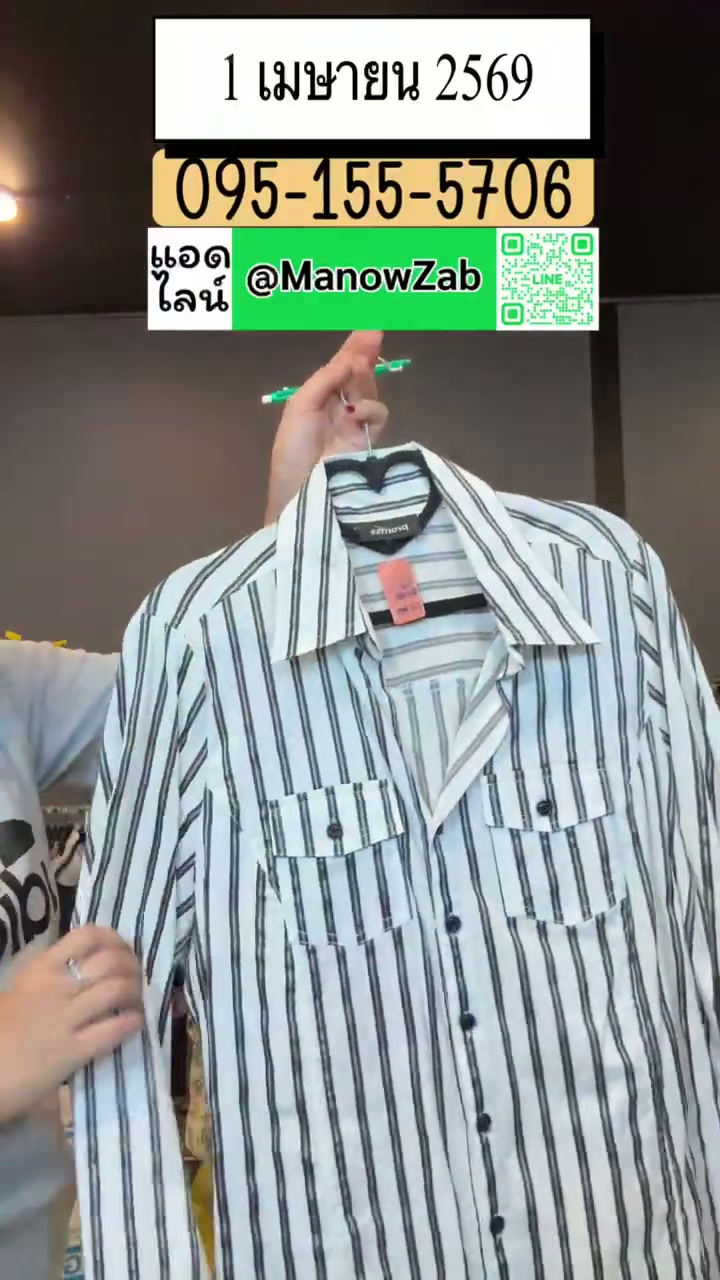display_shirt: (76, 443, 719, 1279)
